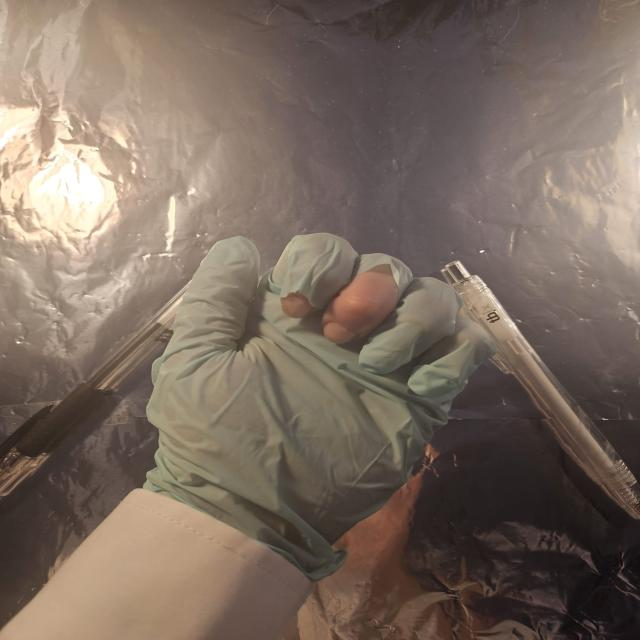gloves_damaged: (140, 230, 501, 588)
